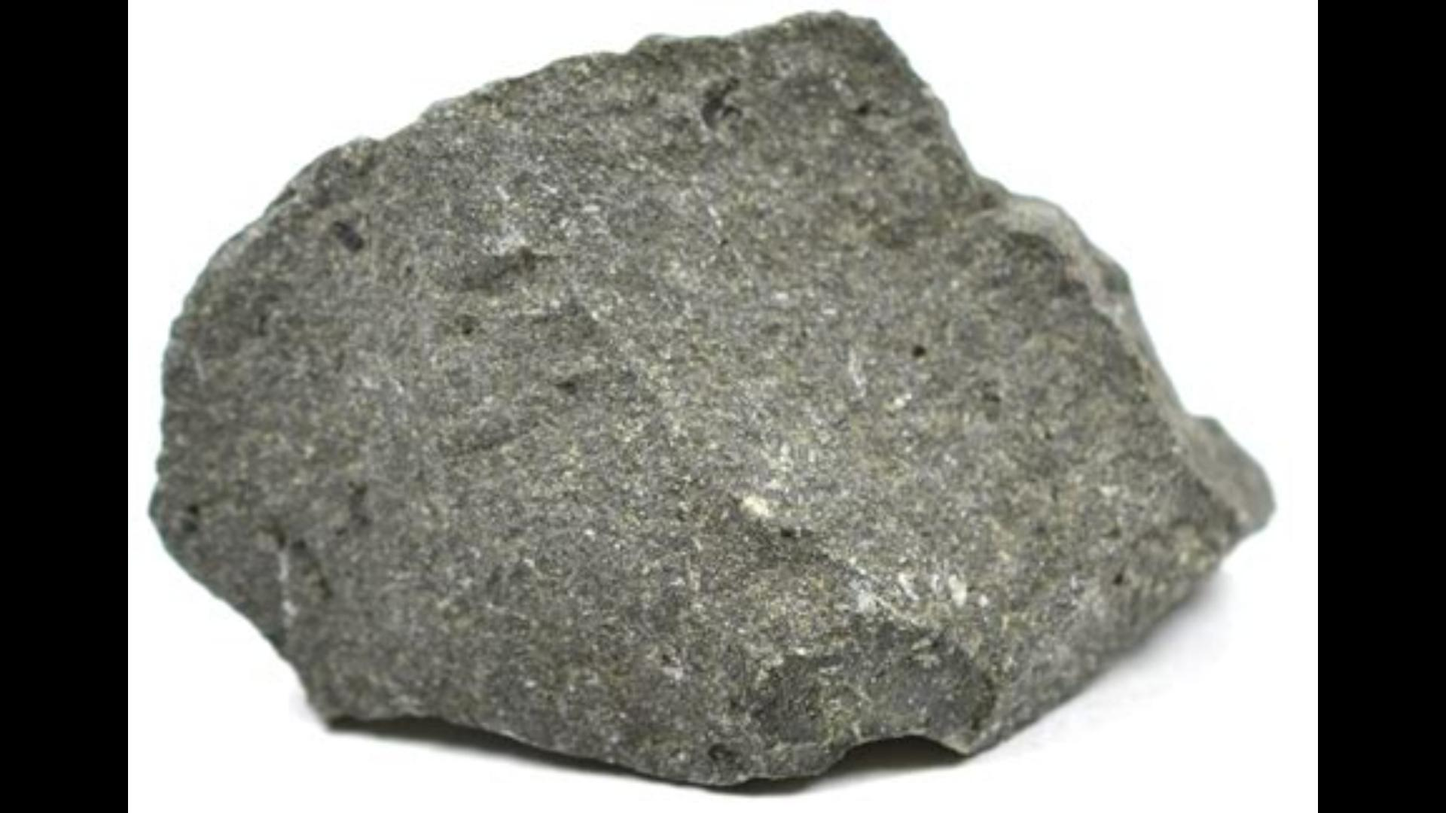rock: (153, 15, 1268, 783)
